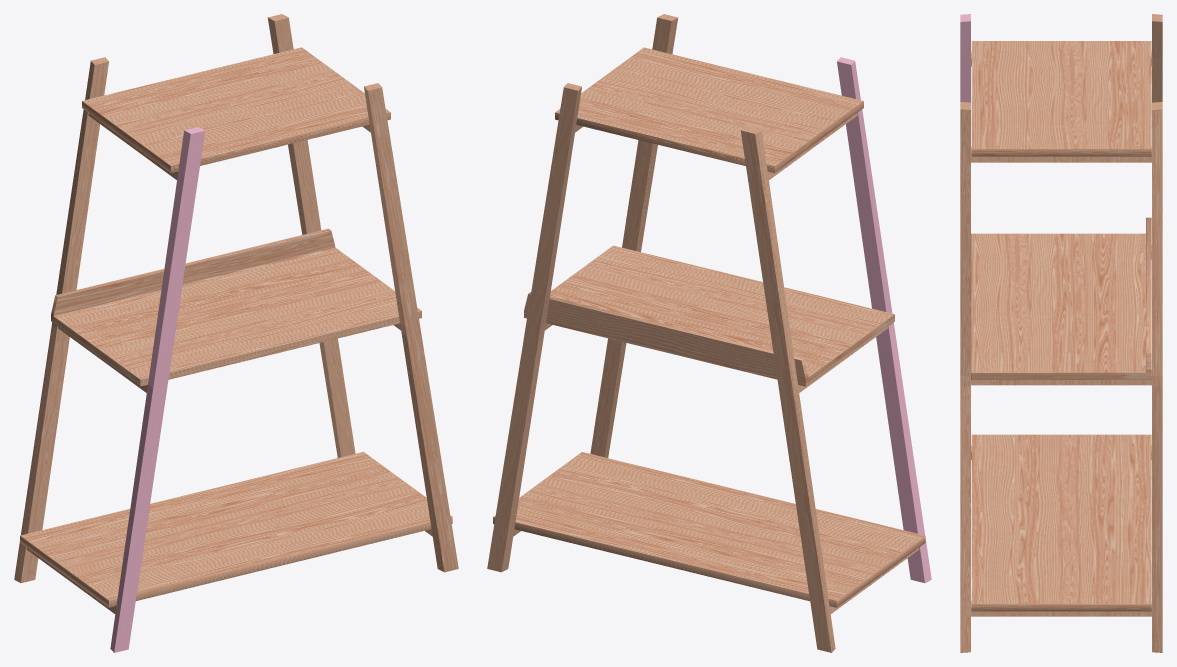
The model's file is pyramid_bookcase.gltf.
The picture shows the model from 3 angles, left to right: view 1: azimuth 30°, elevation 25°; view 2: azimuth 150°, elevation 25°; view 3: azimuth 270°, elevation 25°; orthographic projection.
Parts seen in each view (by area): view 1: Mesh; view 2: Mesh; view 3: Mesh.
Boxes of the visible parts, box(x1,y1,x2,y2) form: Mesh: box(14, 14, 458, 652); Mesh: box(487, 14, 931, 652); Mesh: box(960, 14, 1162, 652).
Size of the model in its own units: 0.7098 by 0.985 by 0.357.
1 material, 1 textured.
